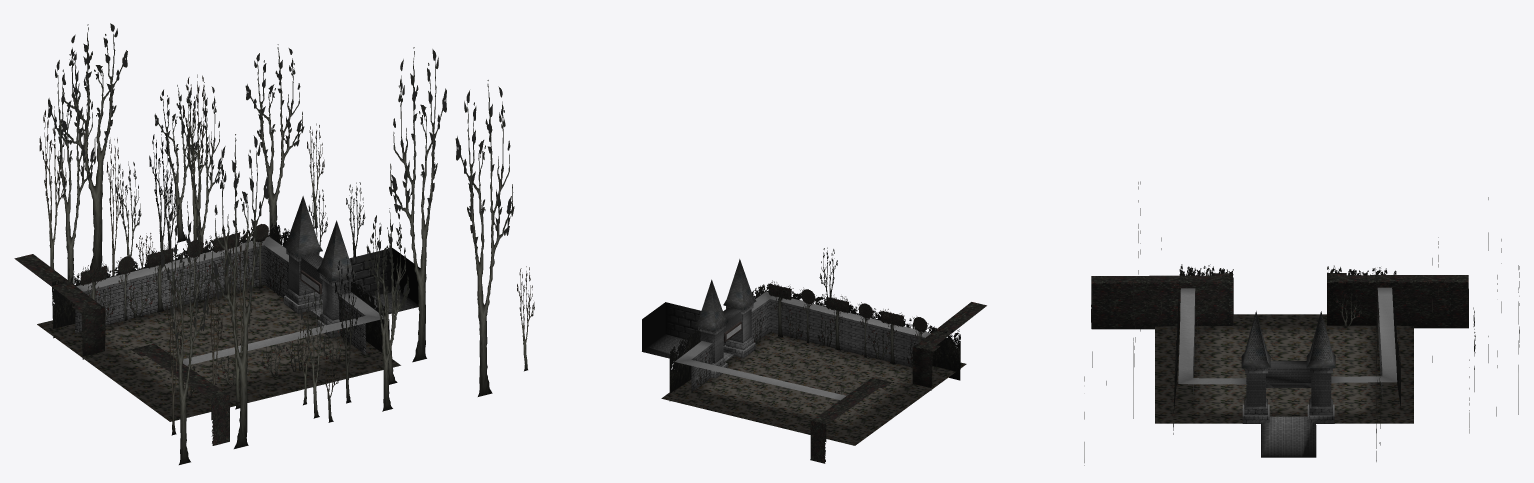
File: room_17.glb
3 renders of one model, left to right at view 1: azimuth 30°, elevation 25°; view 2: azimuth 150°, elevation 25°; view 3: azimuth 270°, elevation 25°, orthographic. The views are drawn at different scales.
Visible parts, largest first — view 1: ground, polySurface34, pPlane392__billboard, pPlane50__billboard, pPlane394__billboard, pPlane274__billboard, pPlane393__billboard, pPlane271__billboard, closebushes, polySurface37, polySurface35, rooftower_6 (+21 smaller); view 2: ground, polySurface35, closebushes, polySurface34, pCube137, polySurface36, rooftower_6, polySurface37, rooftower_7, polySurface21; view 3: ground, polySurface36, polySurface37, rooftower_6, polySurface21, polySurface34, polySurface35, rooftower_7, closebushes.
Part boxes in pixels (x1,y1,x2,y2): ground: (37, 284, 400, 421); polySurface34: (75, 236, 288, 332); pPlane392__billboard: (455, 80, 514, 396); pPlane50__billboard: (210, 134, 268, 448); pPlane394__billboard: (389, 47, 446, 362); pPlane274__billboard: (57, 23, 127, 269); pPlane393__billboard: (160, 201, 208, 464); pPlane271__billboard: (48, 51, 96, 282); closebushes: (52, 222, 389, 352); polySurface37: (14, 254, 105, 359); polySurface35: (183, 292, 383, 365); rooftower_6: (283, 196, 322, 304); ground: (661, 332, 966, 445); polySurface35: (751, 292, 930, 367); closebushes: (669, 283, 960, 401); polySurface34: (675, 341, 846, 400); pCube137: (642, 302, 725, 350); polySurface36: (912, 302, 986, 390); rooftower_6: (695, 279, 741, 366); polySurface37: (810, 377, 891, 463); rooftower_7: (723, 259, 756, 350); polySurface21: (642, 334, 733, 360); ground: (1155, 314, 1413, 423); polySurface36: (1091, 273, 1233, 329); polySurface37: (1327, 273, 1468, 328); rooftower_6: (1266, 311, 1335, 415); polySurface21: (1261, 416, 1316, 457); polySurface34: (1331, 287, 1397, 403); polySurface35: (1178, 288, 1247, 401); rooftower_7: (1241, 311, 1270, 415); closebushes: (1173, 264, 1400, 434).
Bounding box in the file's own units: 125 × 103 × 135.
Materials: 15 (14 with a texture image).
